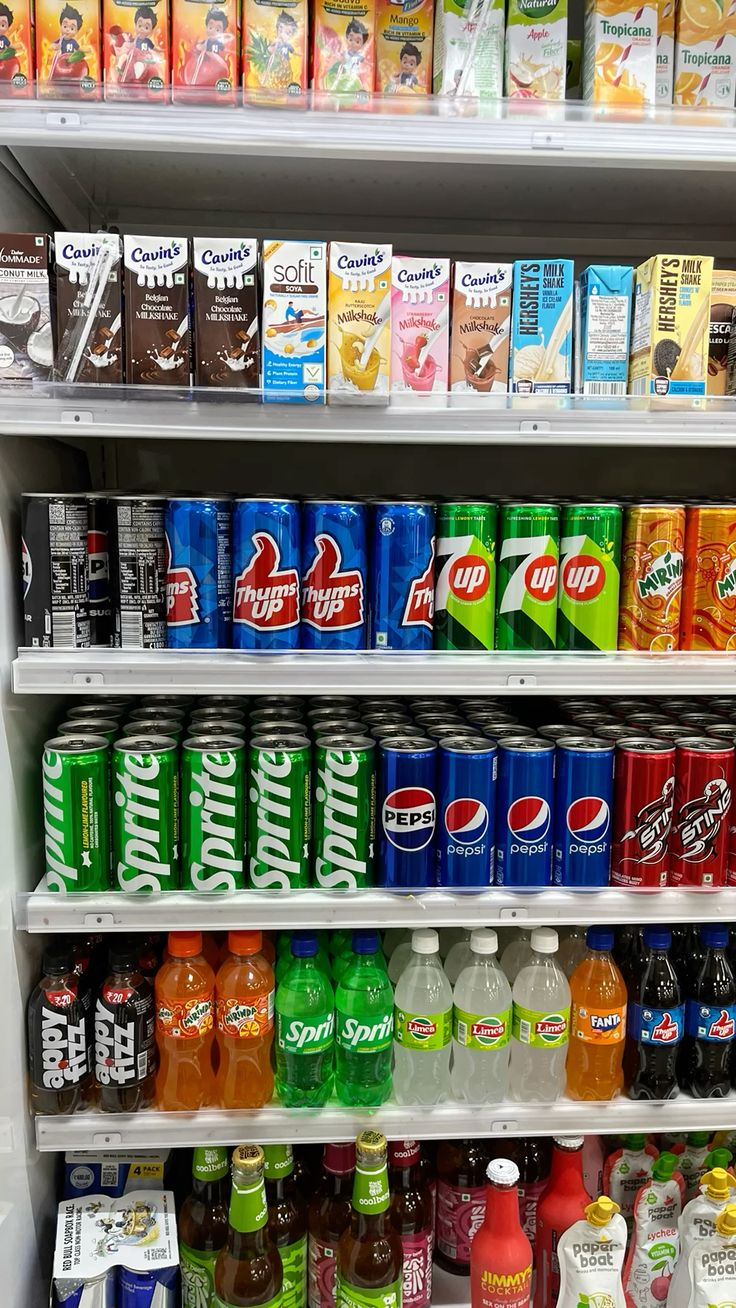Cavins: (173, 218, 271, 407)
Sprite: (98, 720, 186, 910)
Thums Up: (230, 472, 305, 666)
Up: (427, 476, 517, 664)
